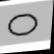no answer: (5, 11, 39, 39)
